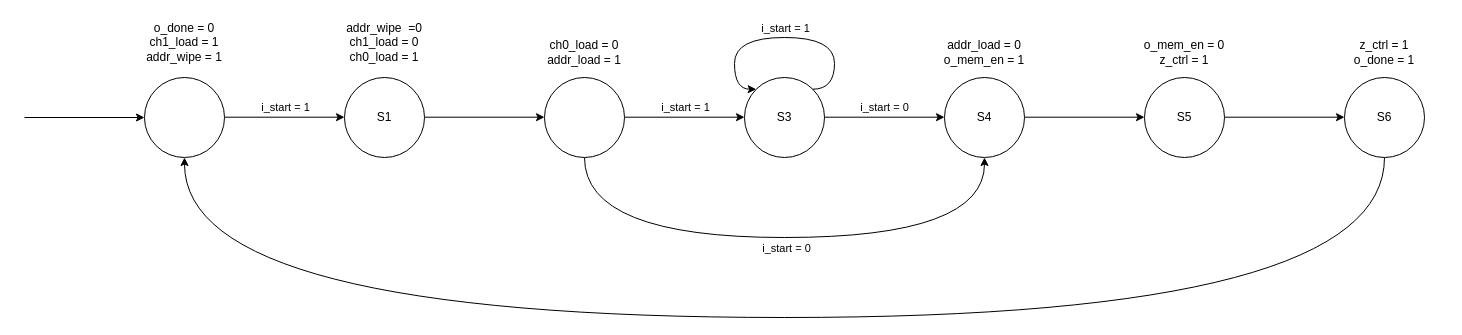
The diagram is 1462 pixels wide and 335 high, and some of its shapes have lost their labels. Each missing label, with the centre of its shape:
S0: the point at 184,117
S2: the point at 584,117
